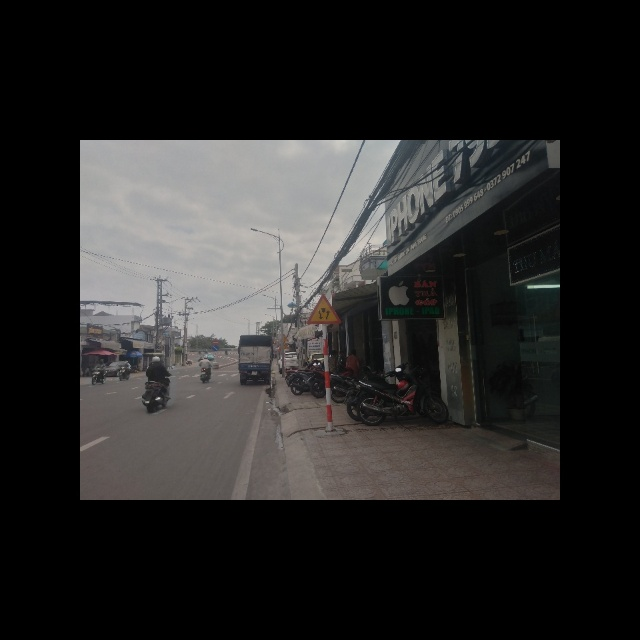Đường đôi: (306, 292, 340, 325)
